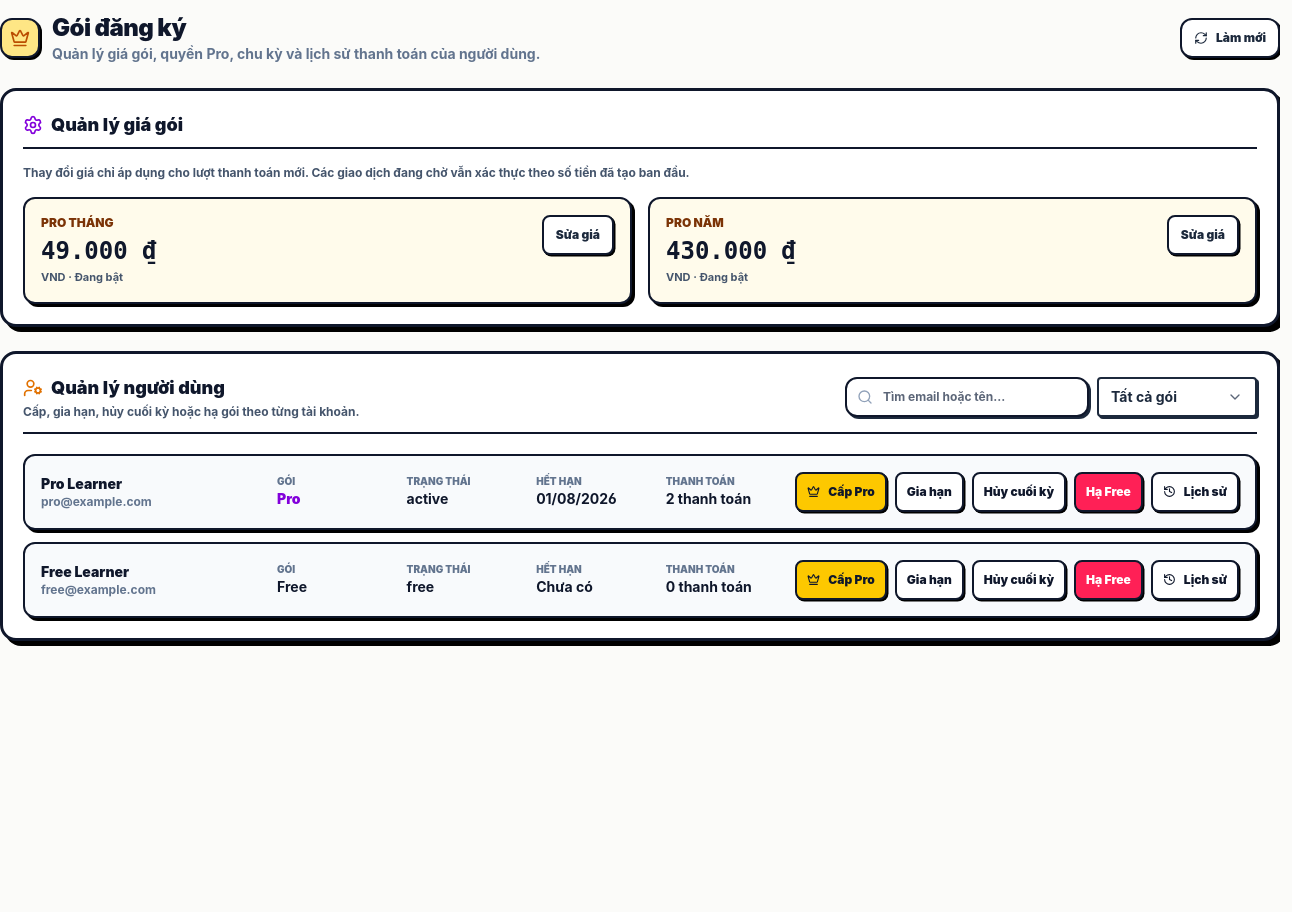
it: AdminSubscriptionsPage › filters rows by search query and plan
Expected: the text "Free Learner" is shown, [41,562,129,580]
Type "pro@" into the field with placeholder "Tìm email hoặc tên...". click: (967, 396)
box: [845,376,1089,416]
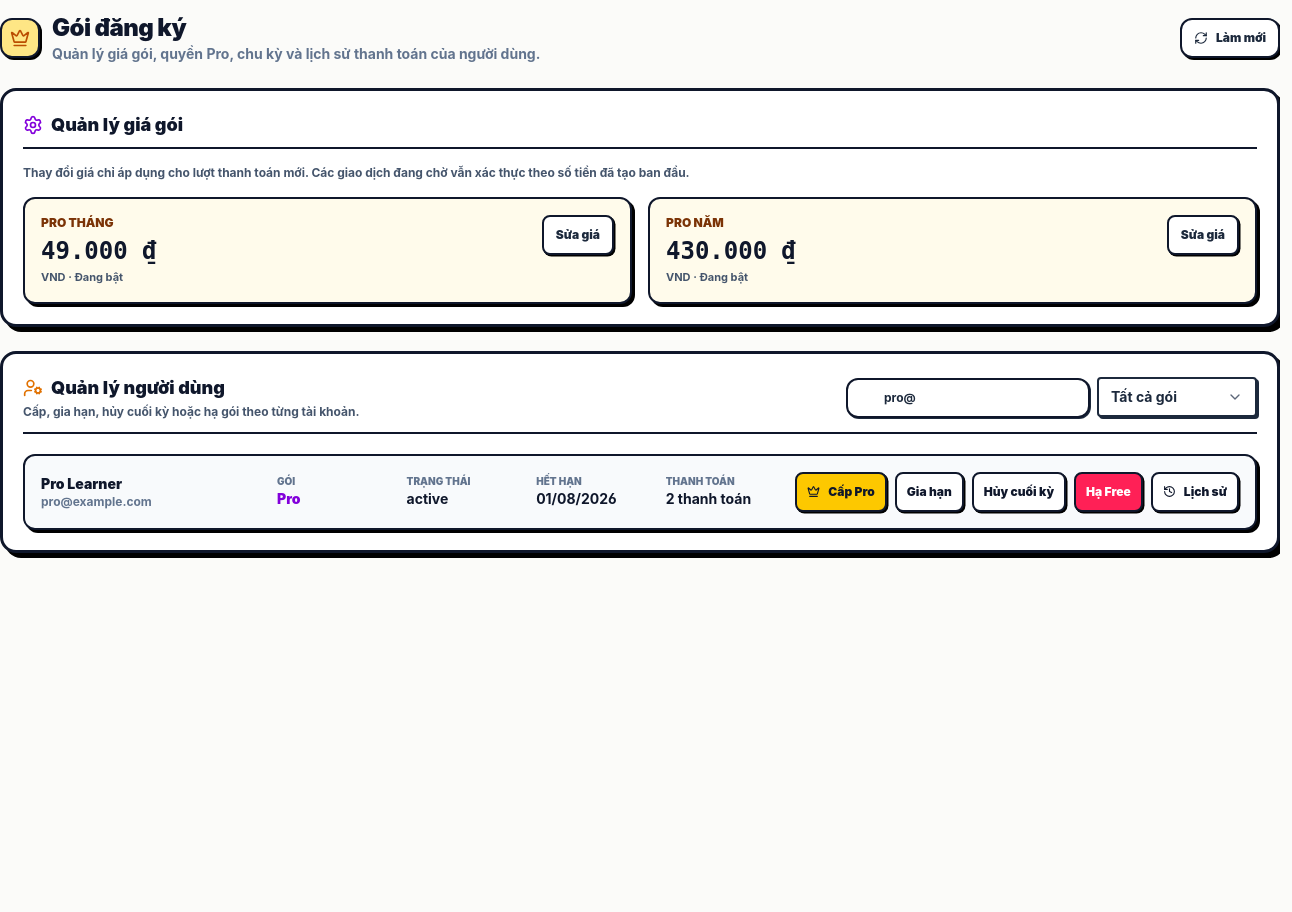
Expected: the text "Pro Learner" is shown, [41,474,122,492]
Expected: the text "Free Learner" is gone
